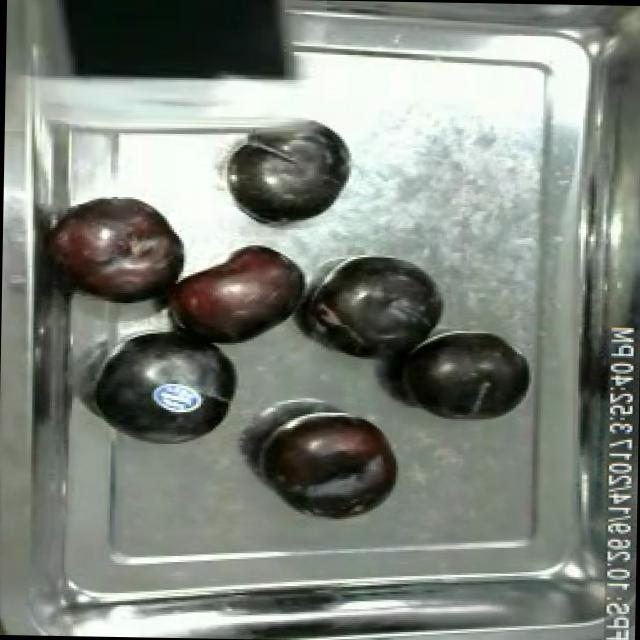Fruit: (90, 328, 248, 451), (156, 235, 312, 354), (45, 191, 193, 310), (255, 406, 402, 516), (218, 127, 354, 230), (402, 330, 536, 426), (324, 260, 445, 360)
